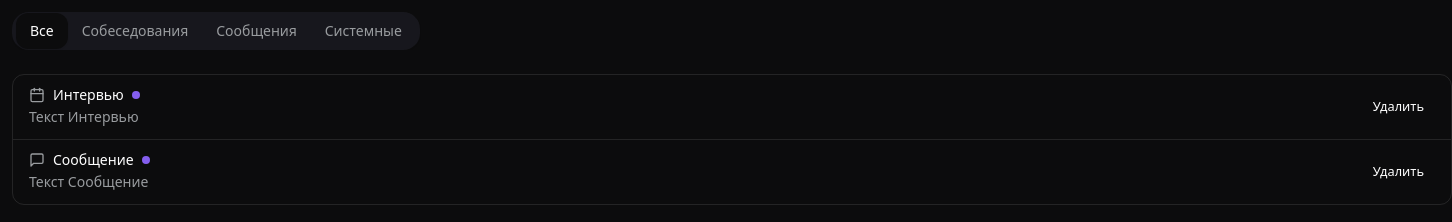
Test: NotificationsList › удаляет отдельно от чтения и перехода
Click the button with aria-label "Удалить уведомление: Интервью" at [1398, 107], box [1362, 93, 1435, 121]
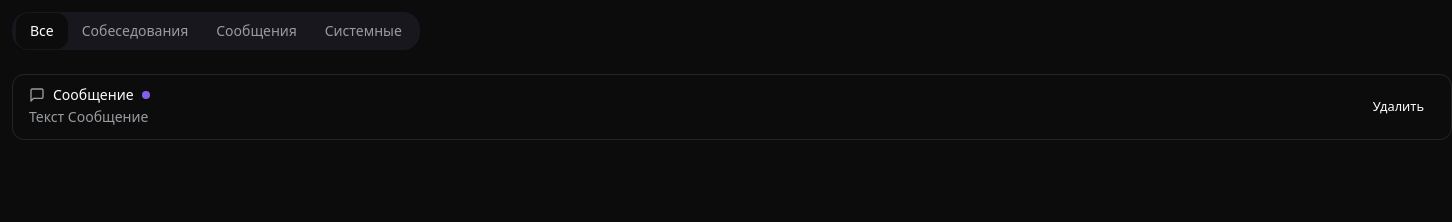
Result: the button "Интервью" is gone
